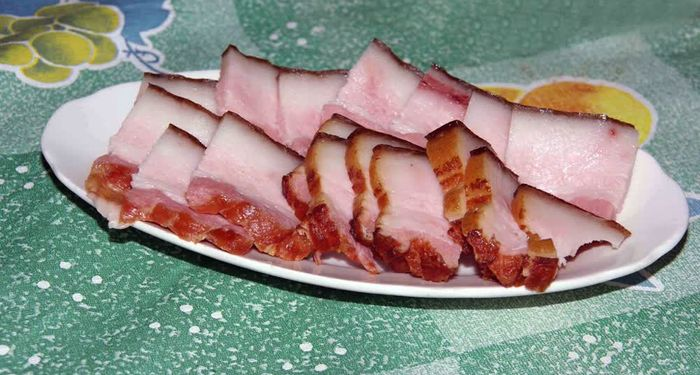bacon: (96, 40, 647, 293)
